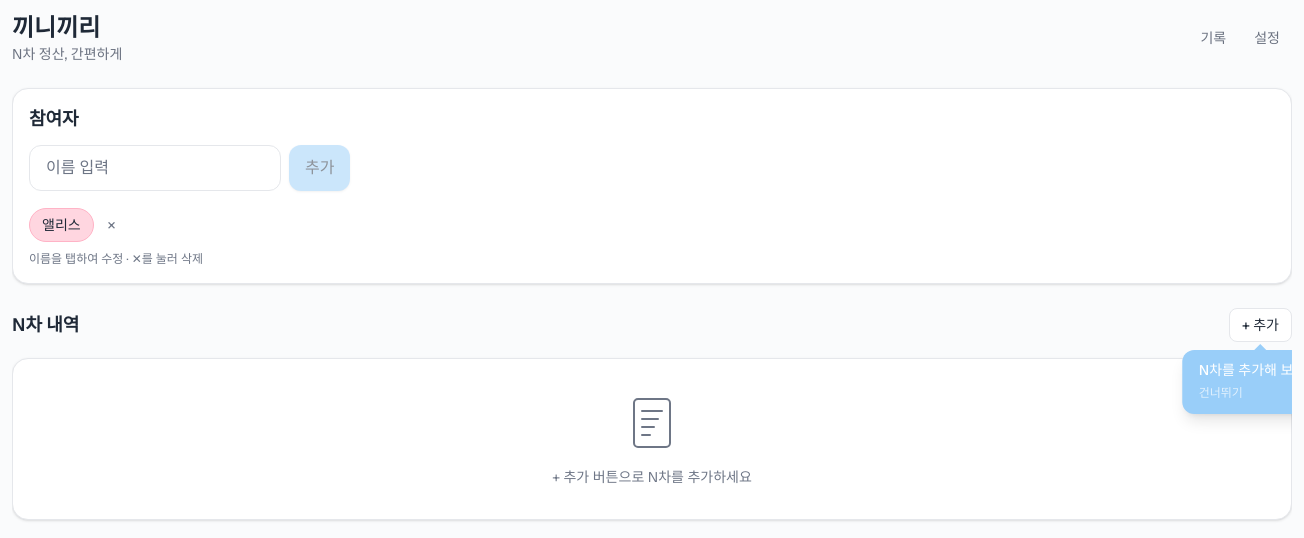
it: MainPage - 참여자 관리 › Chip 클릭으로 이름 수정 모드 진입
Click the button with aria-label "앨리스 이름 수정". click: (61, 225)
box: [29,208,94,242]
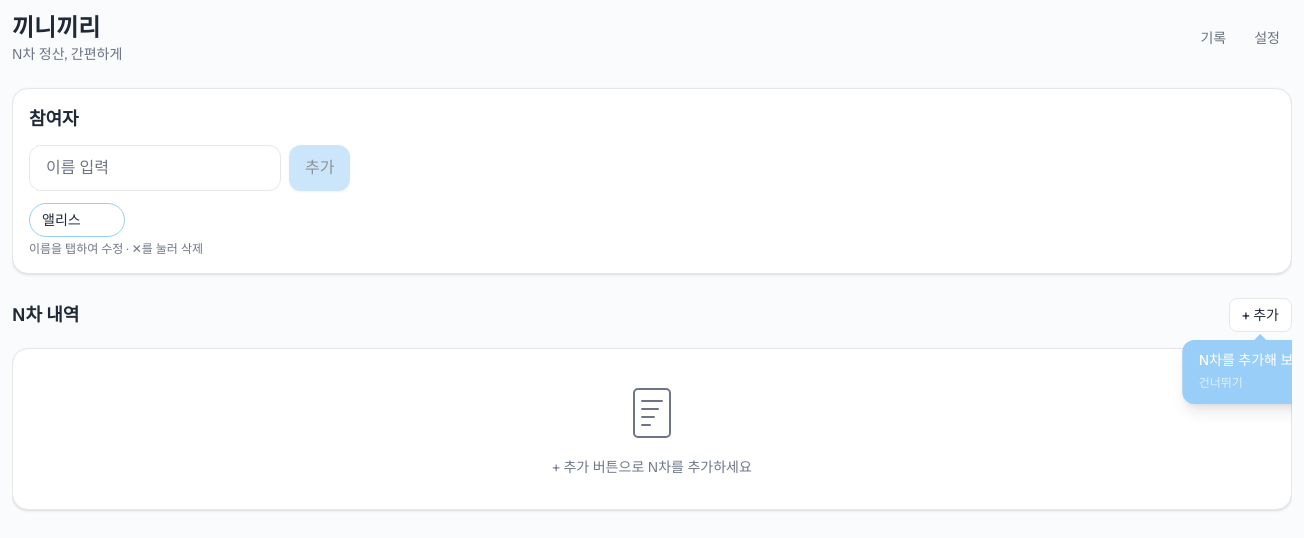
Expected: the field named "참여자 이름 수정" holds "앨리스", [29,203,125,237]
